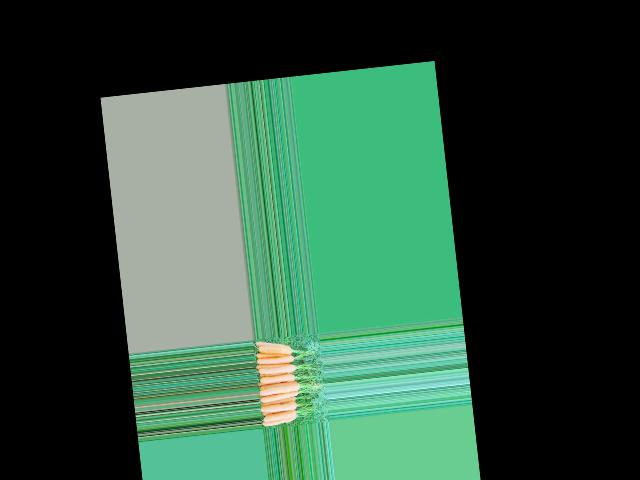carrot: (260, 416, 296, 425)
